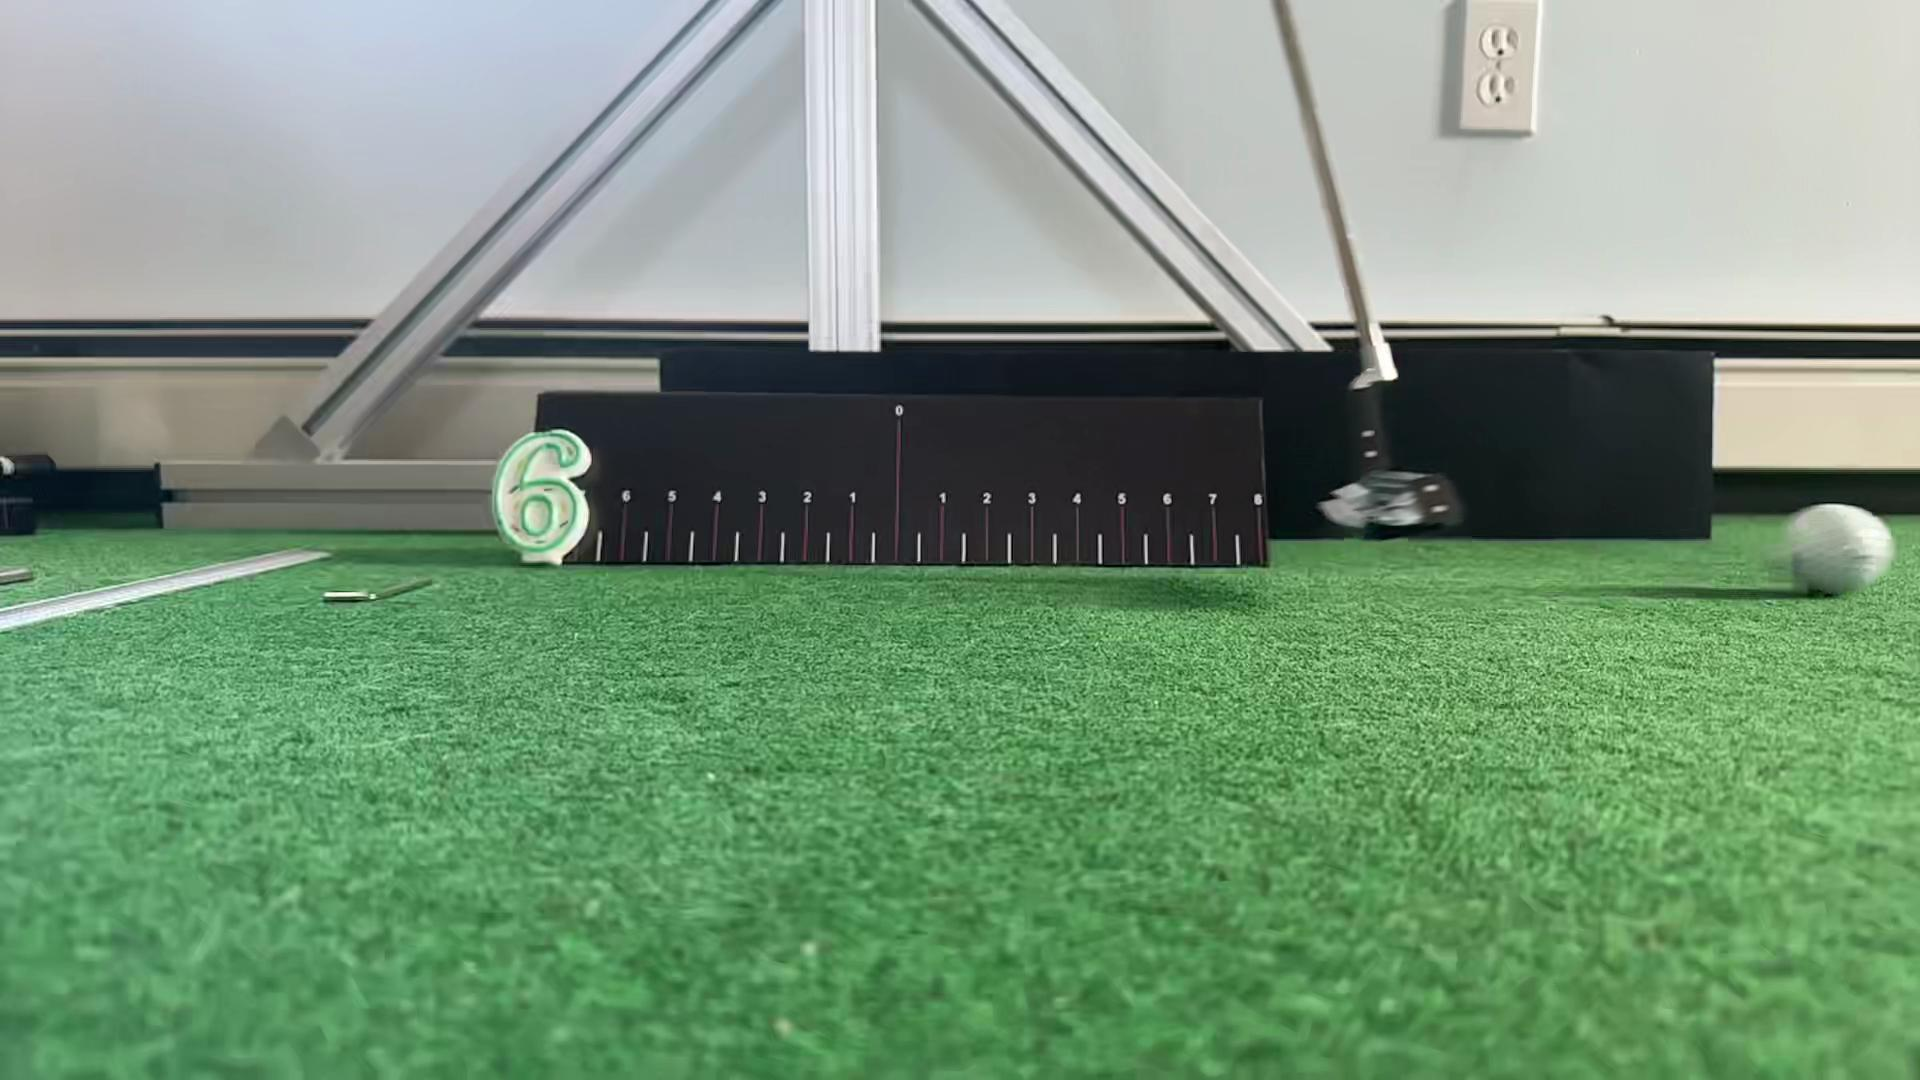golfball: (1786, 503, 1893, 598)
